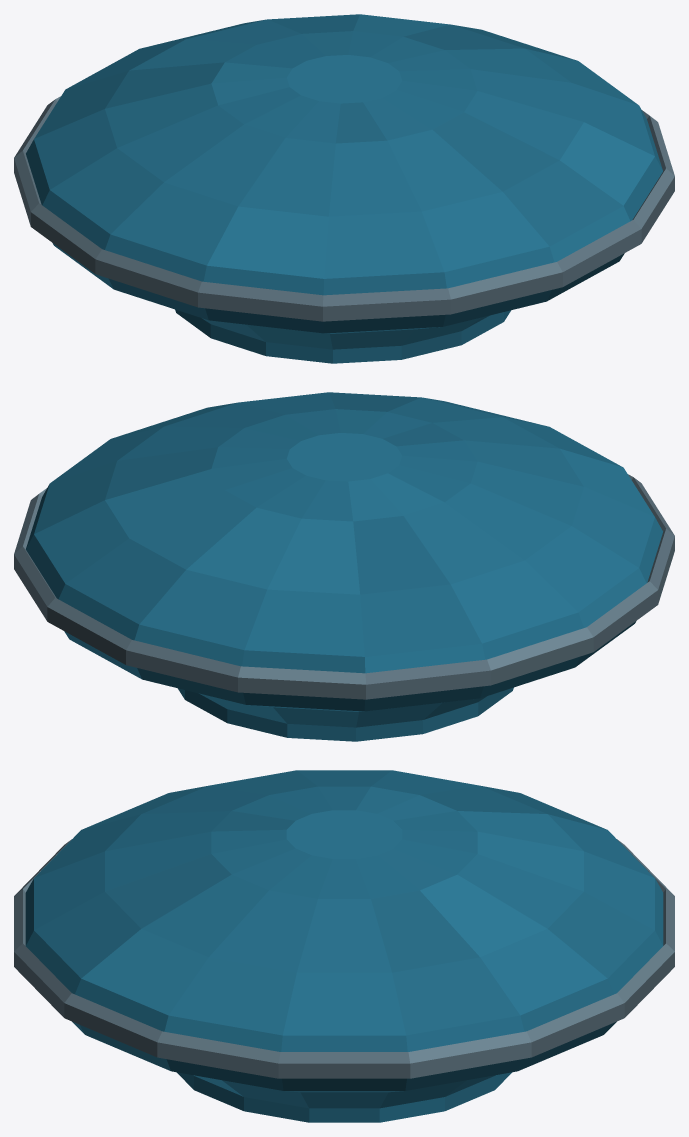
Rendered from ER_OrbitalCap.fbx.
3 renders of one model, top to bottom at view 1: azimuth 30°, elevation 25°; view 2: azimuth 150°, elevation 25°; view 3: azimuth 270°, elevation 25°, orthographic.
Parts seen in each view (by area): view 1: ER_OrbitalCap; view 2: ER_OrbitalCap; view 3: ER_OrbitalCap.
Part boxes in pixels (x1,y1,x2,y2): ER_OrbitalCap: (14,14,674,363); ER_OrbitalCap: (14,392,674,741); ER_OrbitalCap: (14,770,674,1122).
Size of the model in its own units: 1.46 by 0.52 by 1.46.
